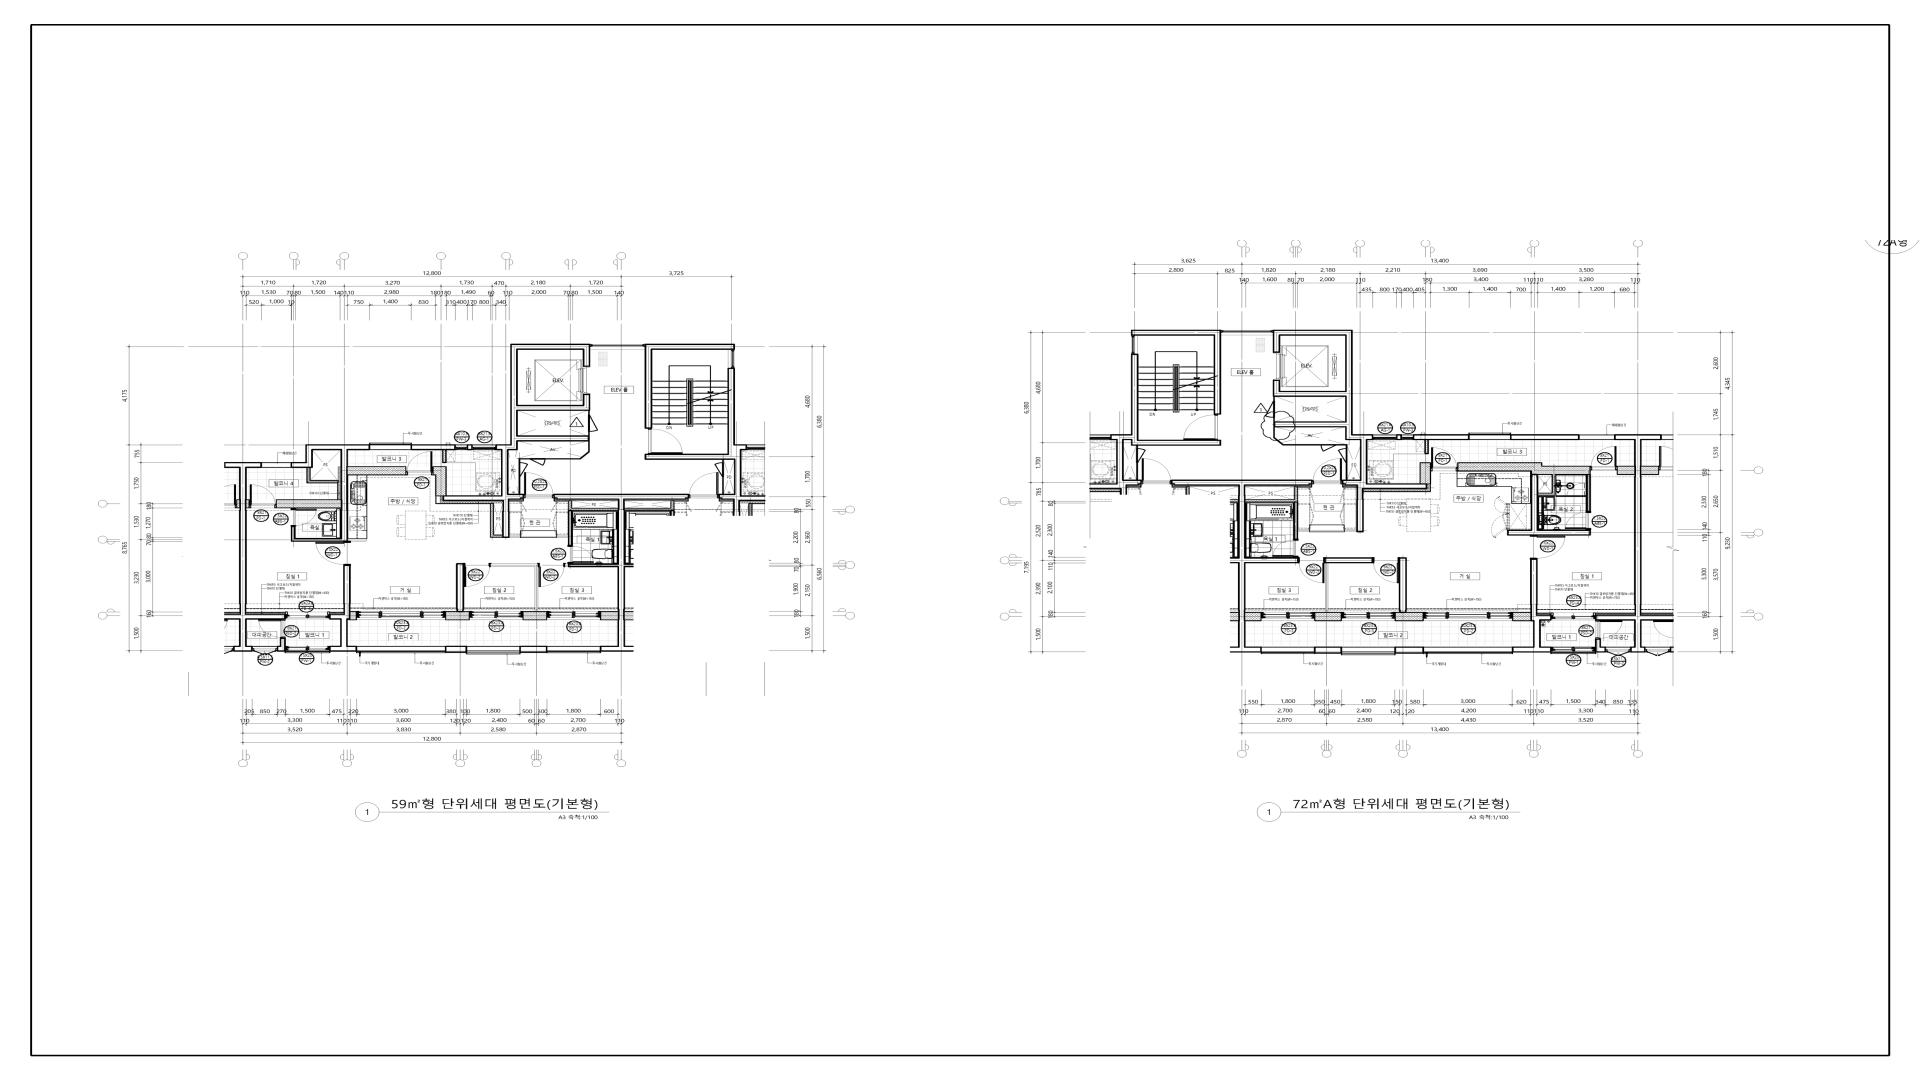door: (645, 429, 683, 454), (1183, 415, 1218, 440), (1530, 535, 1565, 559), (315, 542, 351, 566), (1142, 458, 1171, 485), (524, 472, 554, 498), (688, 472, 719, 498), (1312, 459, 1342, 484), (1373, 558, 1399, 584), (1298, 558, 1325, 583), (538, 563, 566, 588), (406, 451, 433, 476), (464, 563, 491, 588), (1590, 446, 1617, 471), (1431, 447, 1457, 472), (249, 484, 276, 509), (258, 620, 286, 638), (567, 545, 595, 563), (1565, 512, 1592, 530), (290, 509, 316, 527), (1596, 621, 1623, 638), (1273, 539, 1298, 558), (1567, 484, 1586, 497)
wall: (1273, 330, 1428, 533), (443, 344, 591, 538), (1171, 480, 1312, 653), (554, 493, 688, 651), (1116, 353, 1221, 487), (645, 368, 746, 500), (1596, 434, 1642, 653), (1457, 463, 1592, 535), (239, 462, 285, 651), (291, 444, 369, 542), (1131, 330, 1221, 414), (645, 344, 735, 429), (1315, 558, 1373, 621), (1514, 559, 1551, 653), (1246, 487, 1309, 539), (491, 564, 547, 621), (556, 500, 618, 545), (330, 566, 356, 651), (1395, 558, 1424, 621), (446, 563, 469, 621), (276, 500, 340, 509), (433, 467, 447, 504), (348, 467, 406, 476), (306, 468, 339, 484), (1511, 434, 1580, 440), (491, 502, 502, 538), (1414, 434, 1469, 440), (411, 444, 456, 451), (1420, 463, 1431, 484), (1395, 646, 1423, 654), (1315, 646, 1341, 654), (1513, 612, 1531, 621), (521, 646, 546, 653), (1617, 465, 1634, 475), (600, 612, 617, 621), (1596, 638, 1606, 653), (1246, 612, 1262, 621), (446, 646, 465, 653), (277, 638, 286, 651), (1424, 440, 1429, 455), (442, 451, 447, 463), (351, 611, 356, 621), (348, 539, 367, 542), (1396, 434, 1402, 440), (467, 444, 472, 451), (1345, 529, 1357, 531), (509, 535, 521, 538), (247, 500, 249, 509), (566, 564, 568, 567)
window: (356, 611, 446, 621), (1424, 612, 1513, 621), (1423, 646, 1514, 654), (356, 646, 446, 653), (469, 612, 524, 621), (1341, 646, 1395, 655), (547, 612, 600, 621), (1262, 612, 1315, 621), (1342, 612, 1395, 621), (465, 646, 521, 654), (1261, 646, 1315, 654), (546, 646, 601, 653), (285, 612, 330, 620), (1551, 613, 1596, 621), (1551, 646, 1596, 654), (369, 443, 411, 451), (1469, 433, 1511, 440), (286, 646, 331, 653), (589, 344, 645, 349), (1221, 330, 1273, 335), (252, 646, 277, 657), (1606, 646, 1630, 657), (1580, 434, 1614, 440), (261, 462, 291, 468), (472, 444, 496, 451), (1373, 434, 1396, 440), (728, 349, 735, 368), (1131, 336, 1138, 353), (1402, 434, 1414, 440), (456, 444, 467, 451)
